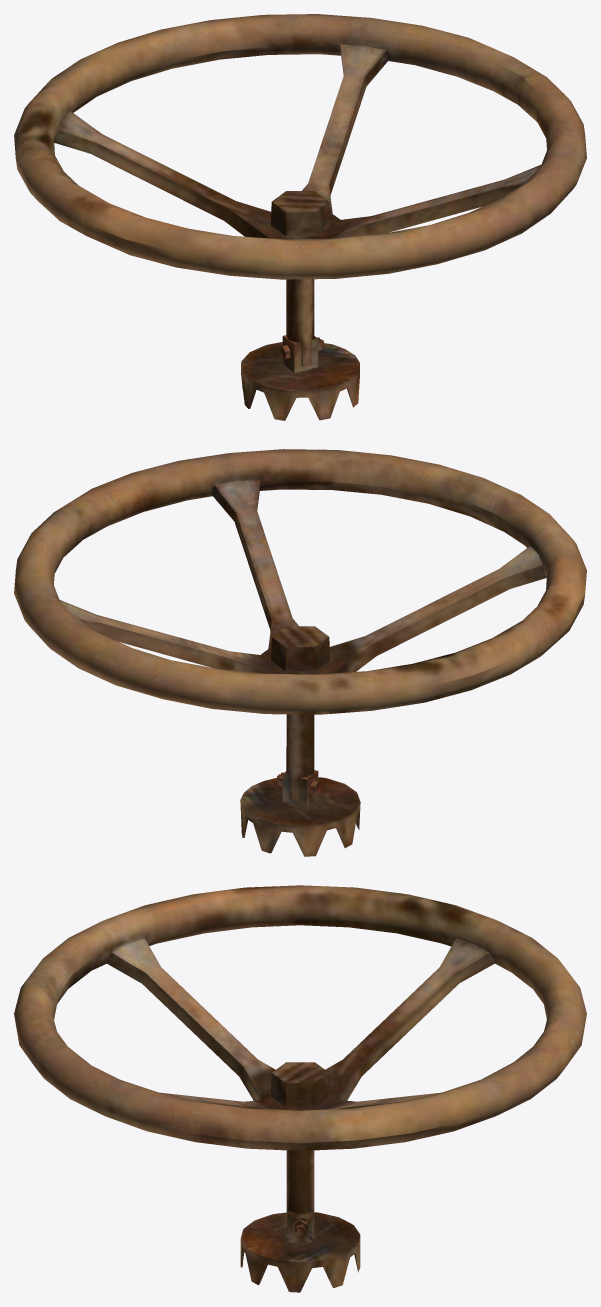
Rendered from old_pipe_09.glb.
The picture shows the model from 3 angles, top to bottom: view 1: azimuth 30°, elevation 25°; view 2: azimuth 150°, elevation 25°; view 3: azimuth 270°, elevation 25°; orthographic projection.
Parts seen in each view (by area): view 1: old_pipe_09; view 2: old_pipe_09; view 3: old_pipe_09.
Boxes of the visible parts, x1,y1,x2,y2 form: old_pipe_09: (14, 14, 586, 420); old_pipe_09: (14, 449, 586, 856); old_pipe_09: (14, 885, 586, 1292).
Size of what is drawn, in the model's own units: 0.1636 by 0.0844 by 0.1636.
1 material, 1 textured.
